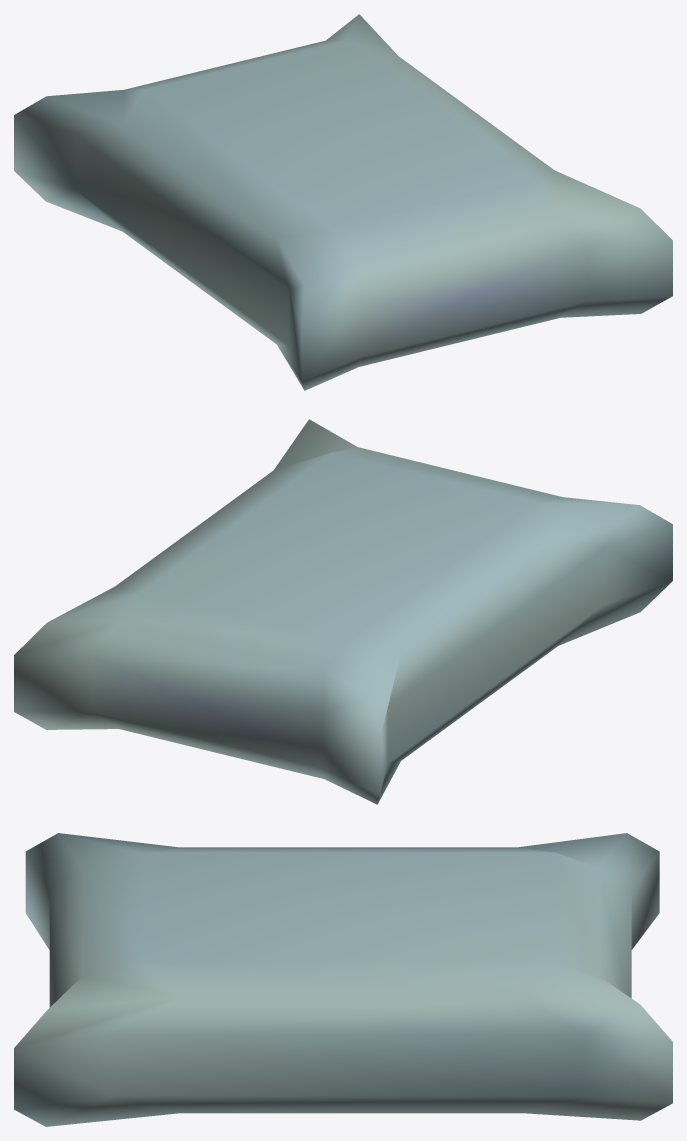
File: Pillow.fbx
3 views of the same model, one above another, from view 1: azimuth 30°, elevation 25°; view 2: azimuth 150°, elevation 25°; view 3: azimuth 270°, elevation 25° (orthographic). The views are drawn at different scales.
Parts seen in each view (by area): view 1: Pillow; view 2: Pillow; view 3: Pillow.
Part boxes in pixels (x1,y1,x2,y2): Pillow: (14, 14, 672, 390); Pillow: (14, 419, 672, 804); Pillow: (14, 833, 672, 1126).
Bounding box in the file's own units: 39.07 × 13.66 × 55.33.
